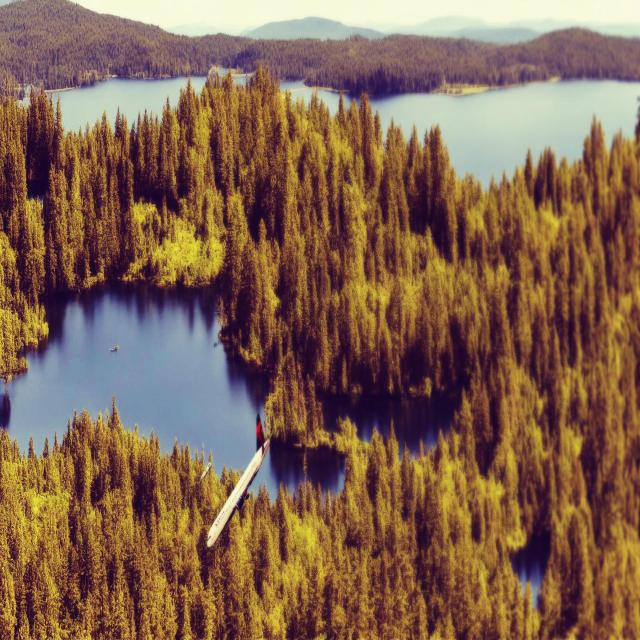airplane: (202, 413, 271, 549)
